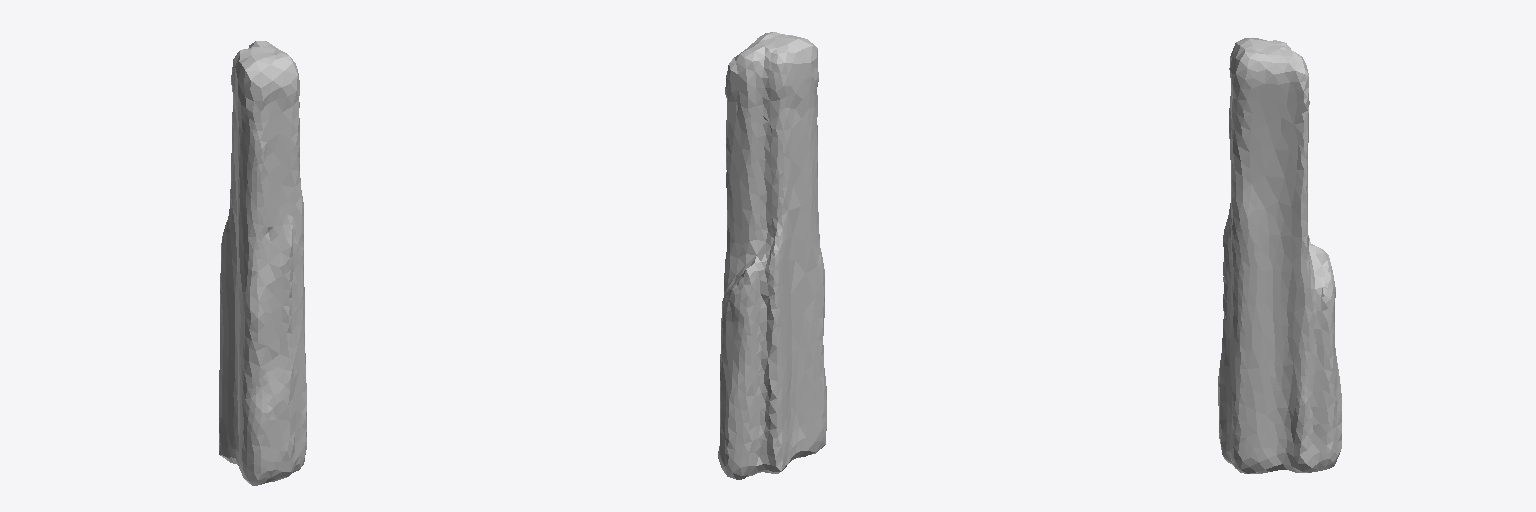
Rendered from Rock04_C.obj.
3 renders of one model, left to right at view 1: azimuth 30°, elevation 25°; view 2: azimuth 150°, elevation 25°; view 3: azimuth 270°, elevation 25°, orthographic.
Visible parts, largest first — view 1: Rock04_C; view 2: Rock04_C; view 3: Rock04_C.
Part boxes in pixels (bbox=[...]): Rock04_C: bbox=[219, 41, 306, 485]; Rock04_C: bbox=[718, 32, 826, 479]; Rock04_C: bbox=[1218, 38, 1341, 473].
Bounding box in the file's own units: 0.5808 × 3.4 × 0.9104.